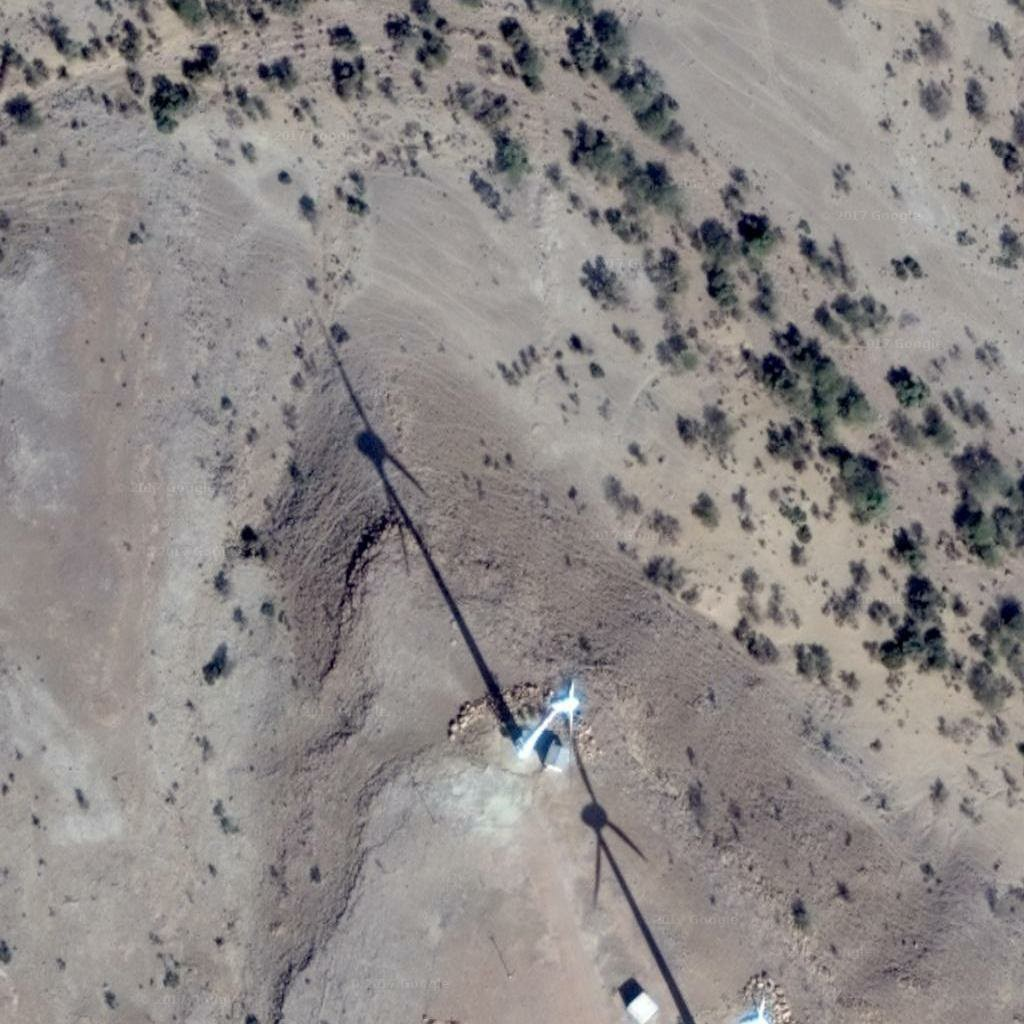Windmill: (311, 315, 524, 728)
